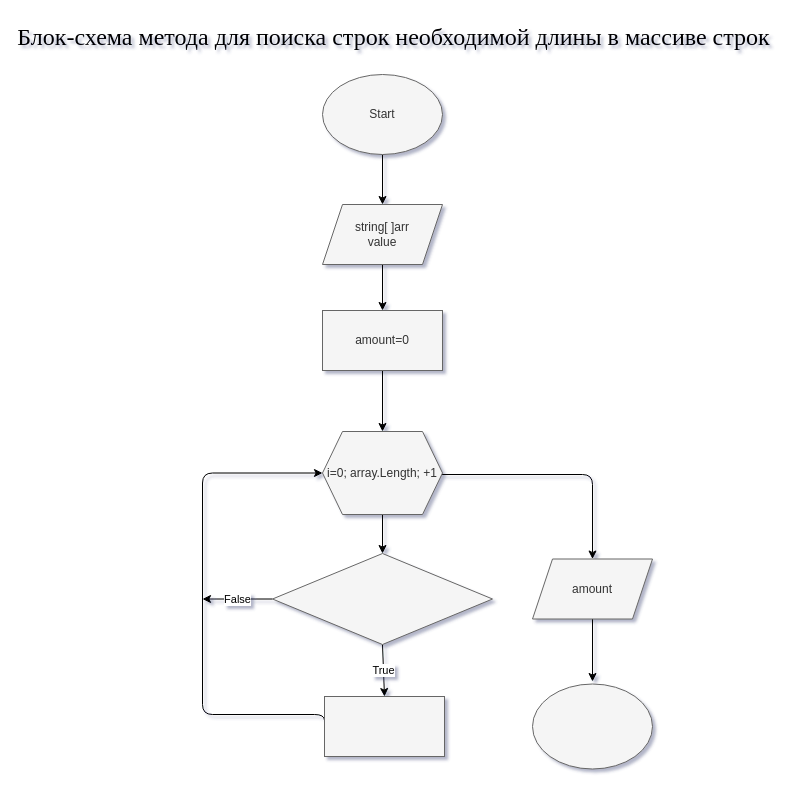
The diagram is 792 pixels wide and 792 high, and some of its shapes have lost their labels. Here are the shapes that lost their labels. From the top down, the centre of each, then its label:
(x=382, y=598): array[index].Length<=value
(x=384, y=726): amount=amount+1
(x=592, y=726): End
